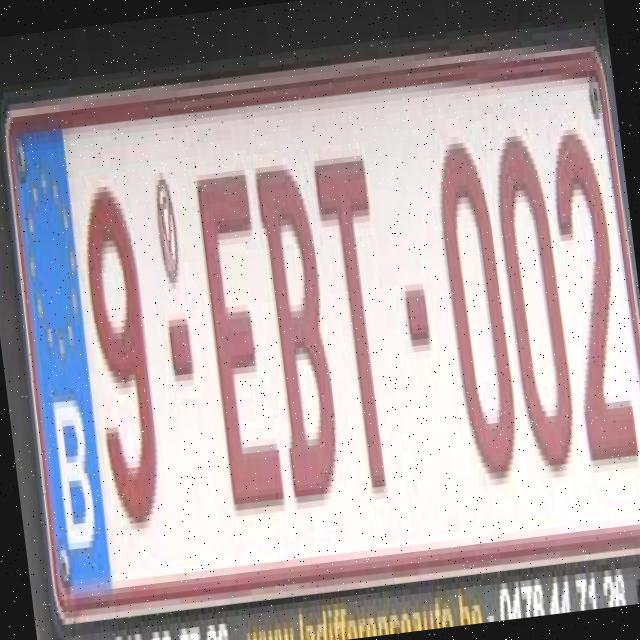Belgique: (11, 124, 111, 593)
EU: (0, 51, 640, 628)
